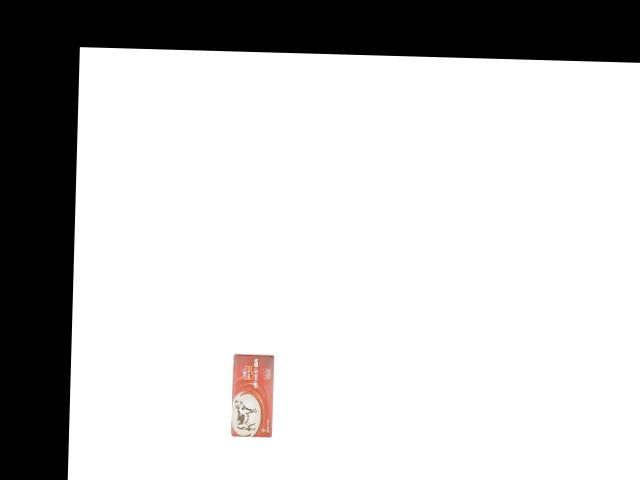chocolate: (231, 351, 276, 437)
